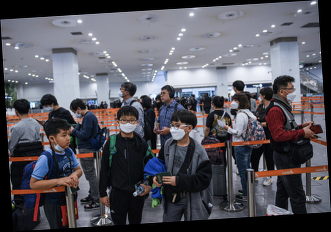mask_weared_incorrect: (54, 130, 70, 149)
with_mask: (169, 121, 186, 141), (118, 116, 136, 133), (284, 84, 296, 103), (70, 110, 83, 120), (230, 98, 239, 111), (117, 87, 125, 99), (42, 105, 53, 113), (257, 94, 263, 104)
without_mask: (159, 90, 170, 103)
